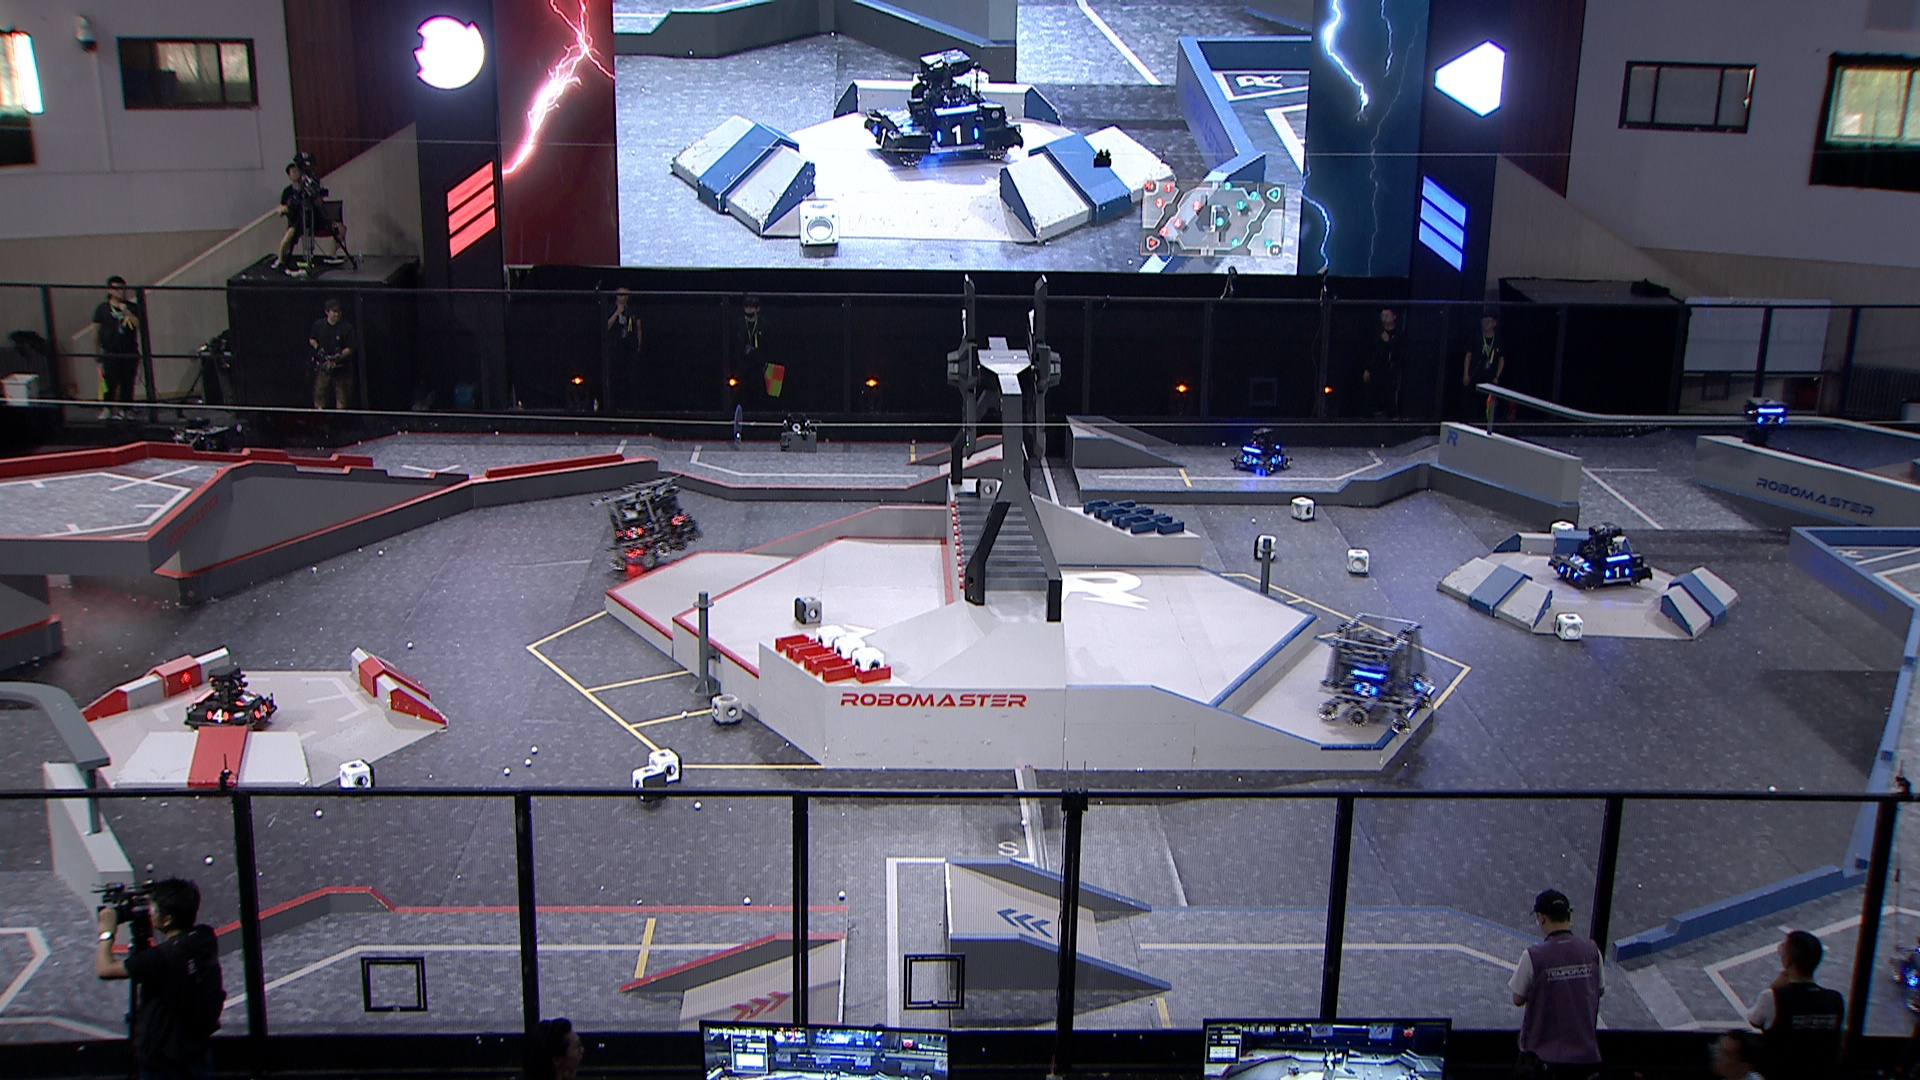armor: (231, 688, 258, 708), (204, 705, 229, 725), (1352, 680, 1377, 698), (1604, 566, 1631, 580), (1756, 414, 1787, 427), (1567, 553, 1590, 568), (253, 703, 272, 721), (624, 527, 646, 542), (1557, 564, 1580, 578), (669, 512, 688, 526), (1414, 675, 1427, 692), (1242, 454, 1258, 467), (1269, 452, 1283, 465)
car: (1316, 608, 1437, 732), (593, 475, 705, 572), (178, 661, 276, 736), (1548, 520, 1651, 589), (162, 414, 233, 489), (1226, 425, 1294, 477)
ignore: (858, 46, 1022, 169)
watcher: (1741, 392, 1789, 448)
